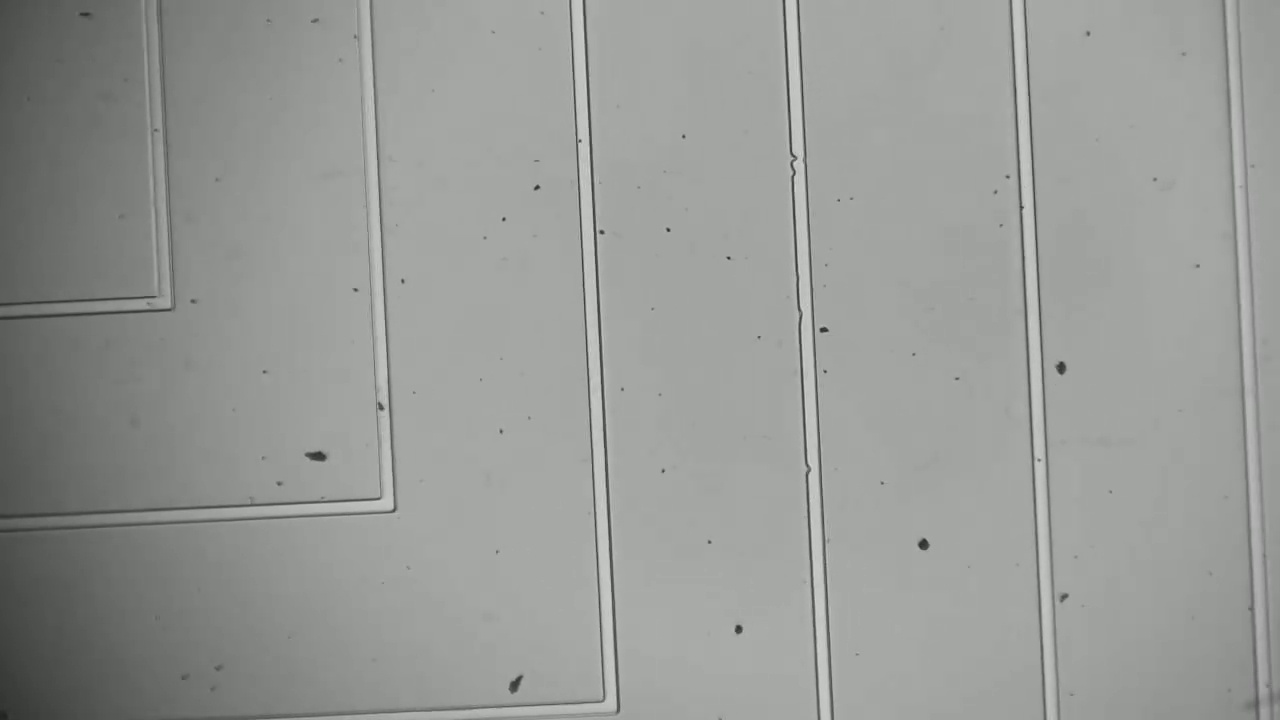edge_bite: (782, 151, 817, 182), (790, 302, 822, 333), (797, 458, 829, 486)
stains_enbedded: (370, 398, 397, 423)
